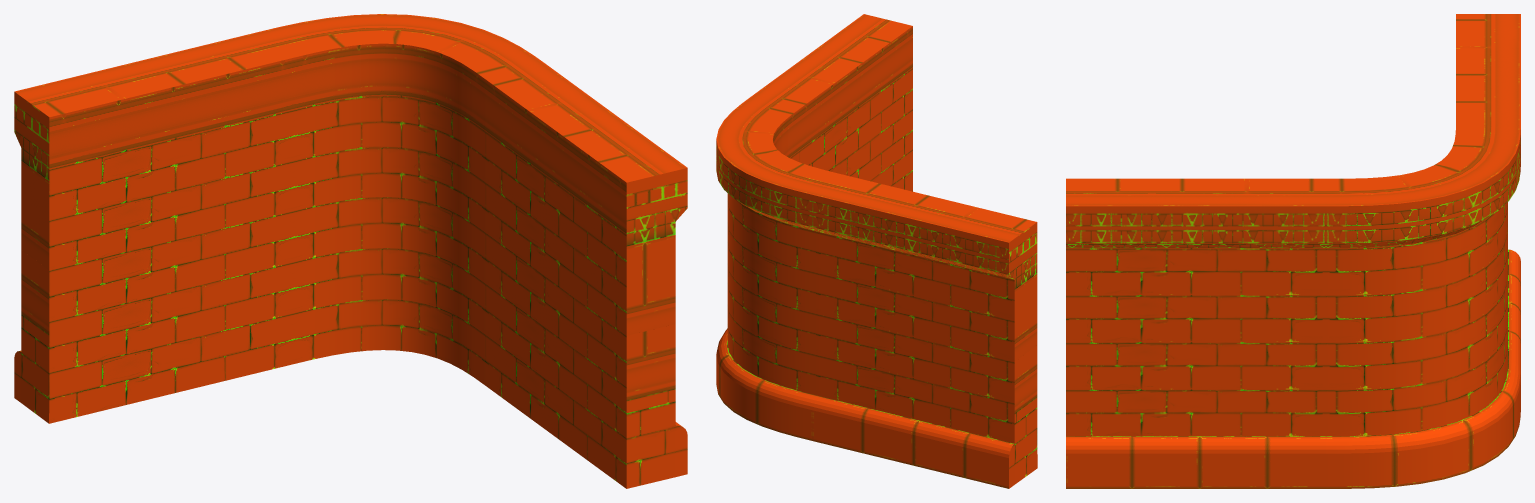
The model's file is Small_Outer_Wall_Corner_ UV Complete.fbx.
3 renders of one model, left to right at view 1: azimuth 30°, elevation 25°; view 2: azimuth 150°, elevation 25°; view 3: azimuth 270°, elevation 25°, orthographic. The views are drawn at different scales.
Parts seen in each view (by area): view 1: Wall_0016; view 2: Wall_0016; view 3: Wall_0016.
Boxes of the visible parts, left/top/right/bottom form: Wall_0016: left=14, top=14, right=687, bottom=488; Wall_0016: left=716, top=14, right=1037, bottom=488; Wall_0016: left=1066, top=14, right=1520, bottom=488.
Size of the model in its own units: 350 by 240 by 350.
